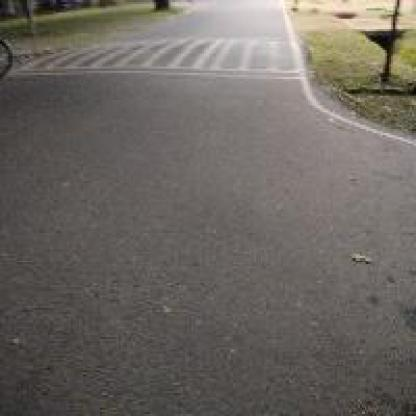Speed Bump: (29, 37, 293, 79)
